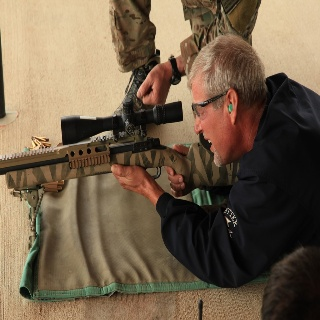rifle: (1, 99, 241, 192)
